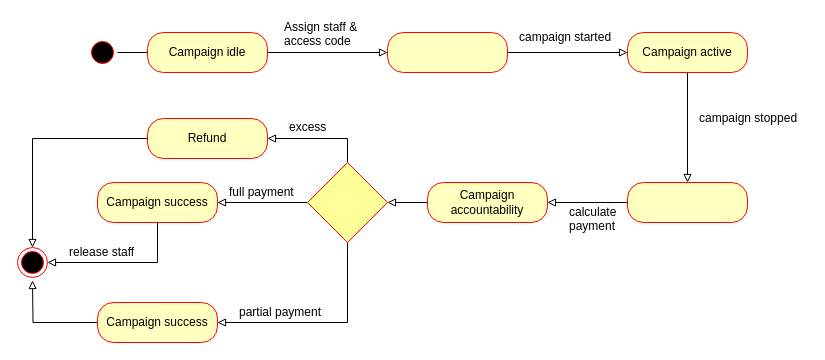
Some shapes in this 825 by 360 pixel diagram are drawn without their labels. Here are the shapes that lost their labels. From the top down, the centre of each, then its label:
At point (447, 52): "Campaign established".
At point (687, 202): "Campaign ends".
